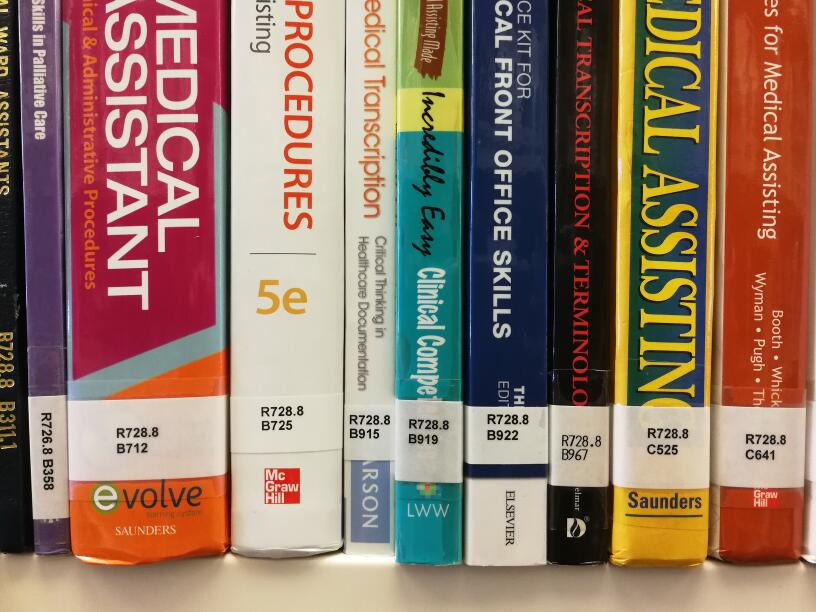booklabel: (647, 425, 690, 456), (39, 411, 55, 491), (114, 426, 159, 454), (486, 412, 529, 441), (561, 432, 603, 461), (745, 433, 787, 461), (260, 405, 305, 431), (407, 417, 449, 444), (349, 414, 391, 438)
